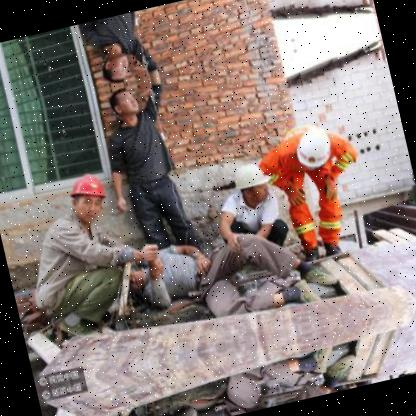capacete: (292, 125, 338, 173), (222, 155, 270, 198), (63, 171, 111, 210)
